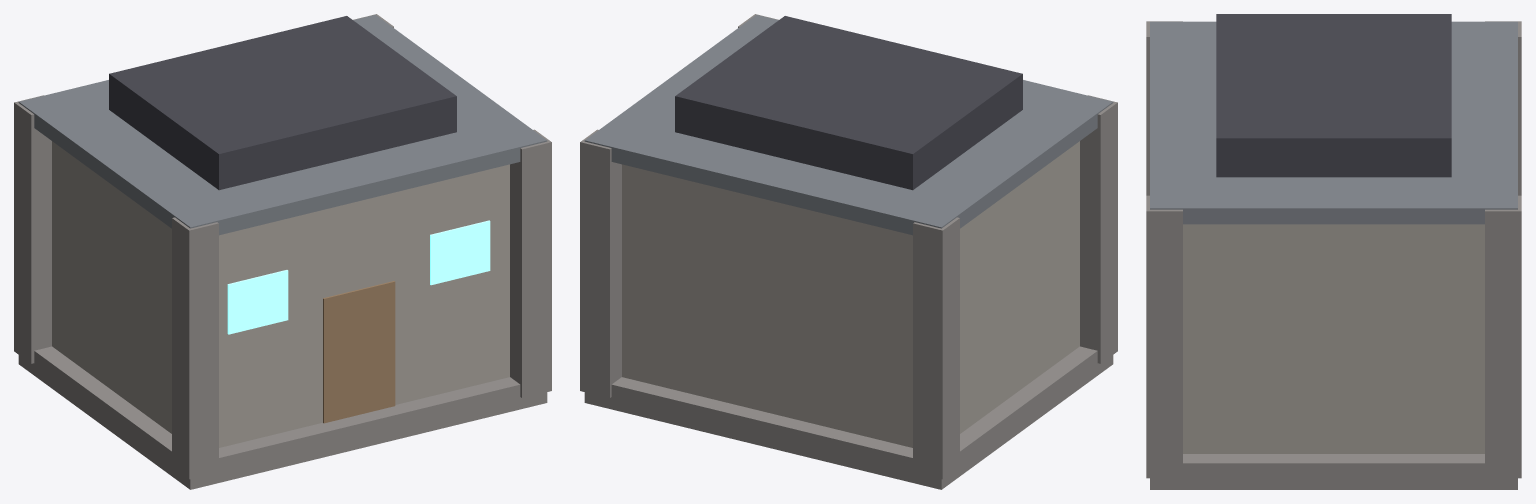
File: building_guardhouse_v1.glb
3 views of the same model, side by side, from view 1: azimuth 30°, elevation 25°; view 2: azimuth 150°, elevation 25°; view 3: azimuth 270°, elevation 25° (orthographic). The views are drawn at different scales.
Visible parts, largest first — view 1: building_guardhouse; view 2: building_guardhouse; view 3: building_guardhouse.
Boxes of the visible parts, x1,y1,x2,y2 form: building_guardhouse: (14,14,551,489); building_guardhouse: (580,14,1117,489); building_guardhouse: (1146,14,1521,489).
Bounding box in the file's own units: 6.1 × 4.8 × 5.1.
